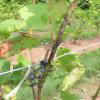grape leaf black rot: (0, 30, 42, 60), (61, 61, 87, 96)
